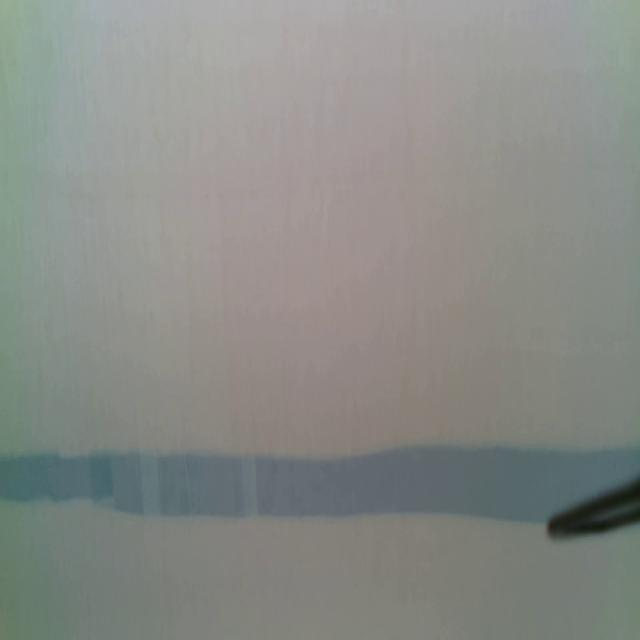color bleeding: (0, 438, 547, 530)
